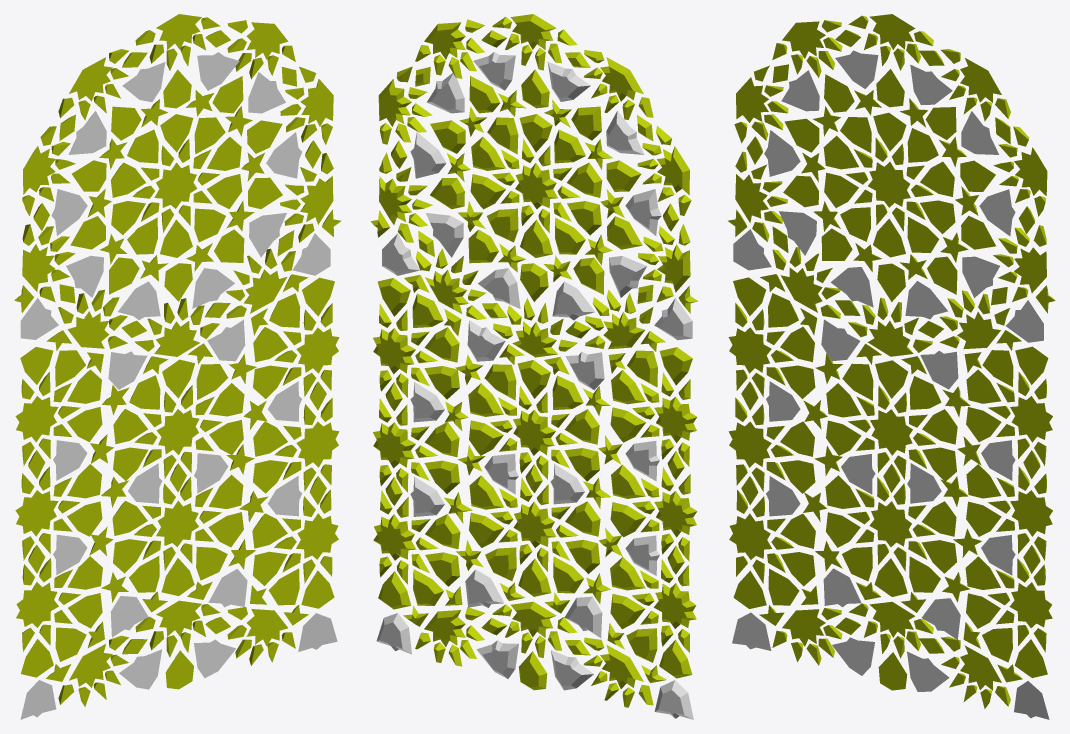
The model's file is ZelligeDoor_lowerPoly.fbx.
The picture shows the model from 3 angles, left to right: view 1: azimuth 30°, elevation 25°; view 2: azimuth 150°, elevation 25°; view 3: azimuth 330°, elevation 25°; orthographic projection.
Visible parts, largest first — view 1: Curve.010, Curve.011, Curve.007, Curve.001, Curve.008, Curve.033, Curve.034, Curve.012, Curve.024, Curve.002, Curve.042, Curve.058 (+36 smaller); view 2: Curve.010, Curve.011, Curve.007, Curve.001, Curve.008, Curve.033, Curve.034, Curve.024, Curve.012, Curve.002, Curve.172, Curve.023 (+36 smaller); view 3: Curve.010, Curve.011, Curve.007, Curve.001, Curve.008, Curve.033, Curve.034, Curve.012, Curve.024, Curve.002, Curve.172, Curve.125 (+36 smaller).
Boxes of the visible parts, x1=… form: Curve.010: x1=22, y1=17, x2=333, y2=351; Curve.011: x1=51, y1=52, x2=301, y2=319; Curve.007: x1=22, y1=14, x2=333, y2=356; Curve.001: x1=70, y1=69, x2=282, y2=301; Curve.008: x1=110, y1=114, x2=242, y2=257; Curve.033: x1=112, y1=475, x2=243, y2=595; Curve.034: x1=113, y1=359, x2=244, y2=480; Curve.012: x1=20, y1=233, x2=330, y2=389; Curve.024: x1=20, y1=568, x2=337, y2=719; Curve.002: x1=87, y1=90, x2=265, y2=281; Curve.042: x1=252, y1=513, x2=334, y2=608; Curve.058: x1=253, y1=277, x2=334, y2=398; Curve.010: x1=379, y1=16, x2=691, y2=351; Curve.011: x1=410, y1=52, x2=661, y2=320; Curve.007: x1=378, y1=14, x2=690, y2=357; Curve.001: x1=430, y1=69, x2=642, y2=301; Curve.008: x1=470, y1=114, x2=602, y2=257; Curve.033: x1=469, y1=475, x2=600, y2=596; Curve.034: x1=468, y1=360, x2=599, y2=481; Curve.024: x1=376, y1=569, x2=693, y2=719; Curve.012: x1=382, y1=233, x2=692, y2=390; Curve.002: x1=447, y1=90, x2=624, y2=281; Curve.172: x1=610, y1=347, x2=692, y2=442; Curve.023: x1=415, y1=604, x2=653, y2=707; Curve.010: x1=734, y1=15, x2=1046, y2=352; Curve.011: x1=764, y1=50, x2=1015, y2=319; Curve.007: x1=735, y1=14, x2=1047, y2=356; Curve.001: x1=783, y1=69, x2=995, y2=301; Curve.008: x1=823, y1=112, x2=955, y2=257; Curve.033: x1=825, y1=475, x2=956, y2=596; Curve.034: x1=826, y1=360, x2=957, y2=481; Curve.012: x1=733, y1=229, x2=1043, y2=389; Curve.024: x1=732, y1=568, x2=1049, y2=719; Curve.002: x1=801, y1=90, x2=978, y2=279; Curve.172: x1=733, y1=277, x2=815, y2=398; Curve.125: x1=733, y1=513, x2=815, y2=608.
Bounding box in the file's own units: 1.46 × 2.88 × 0.0408.
